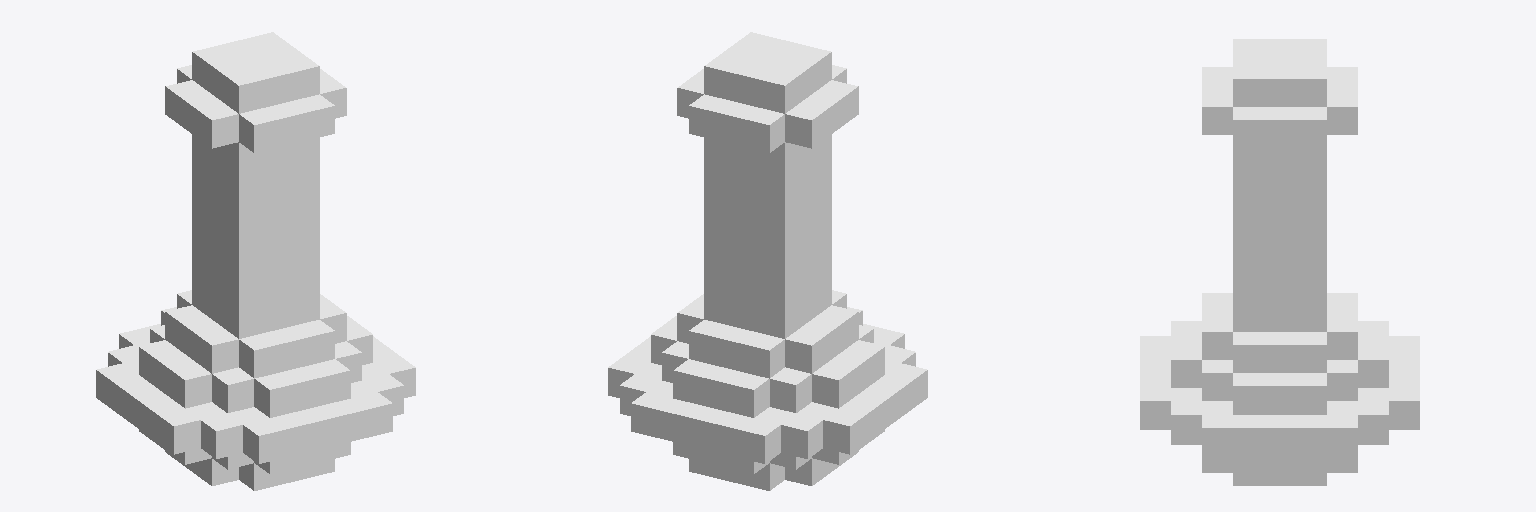
The model's file is HealthPotion.obj.
3 renders of one model, left to right at view 1: azimuth 30°, elevation 25°; view 2: azimuth 150°, elevation 25°; view 3: azimuth 270°, elevation 25°, orthographic.
Parts seen in each view (by area): view 1: object 1; view 2: object 1; view 3: object 1.
Boxes of the visible parts, x1,y1,x2,y2 form: object 1: [96, 32, 415, 490]; object 1: [608, 32, 927, 490]; object 1: [1140, 39, 1419, 485].
Bounding box in the file's own units: 0.9 × 1.4 × 0.9.